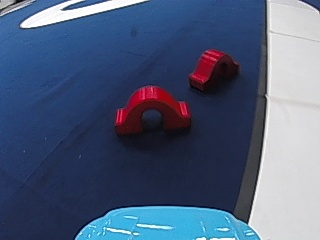bridge: (109, 81, 193, 135), (187, 45, 239, 95)
